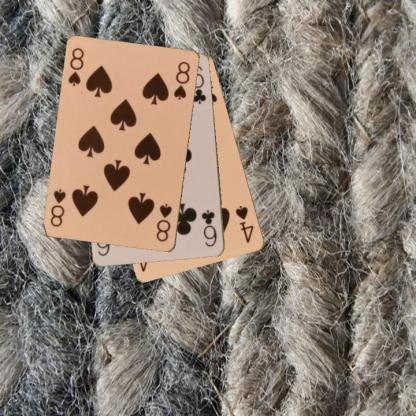4s: (233, 203, 256, 245)
6c: (198, 208, 219, 249)
8s: (154, 201, 174, 243), (66, 45, 86, 87)
